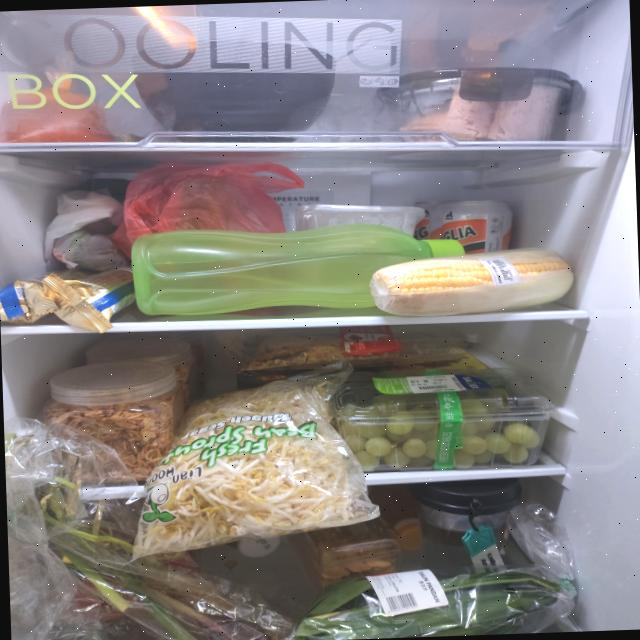bean_sprouts: (127, 378, 372, 557)
corn: (368, 244, 576, 318)
grape: (338, 387, 542, 472)
leafy_greens: (292, 567, 564, 640)
spring_onion: (4, 422, 296, 640)
unknown_bag: (106, 157, 308, 261)
